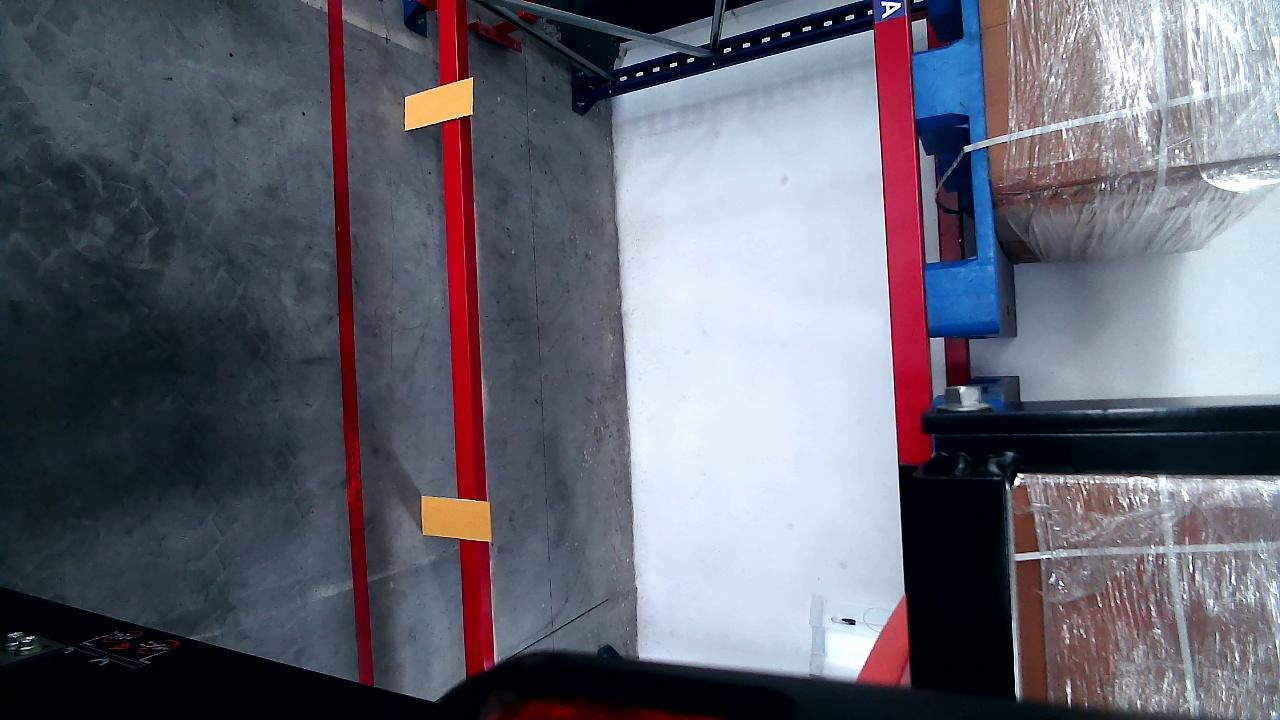red_line: (330, 2, 370, 701)
